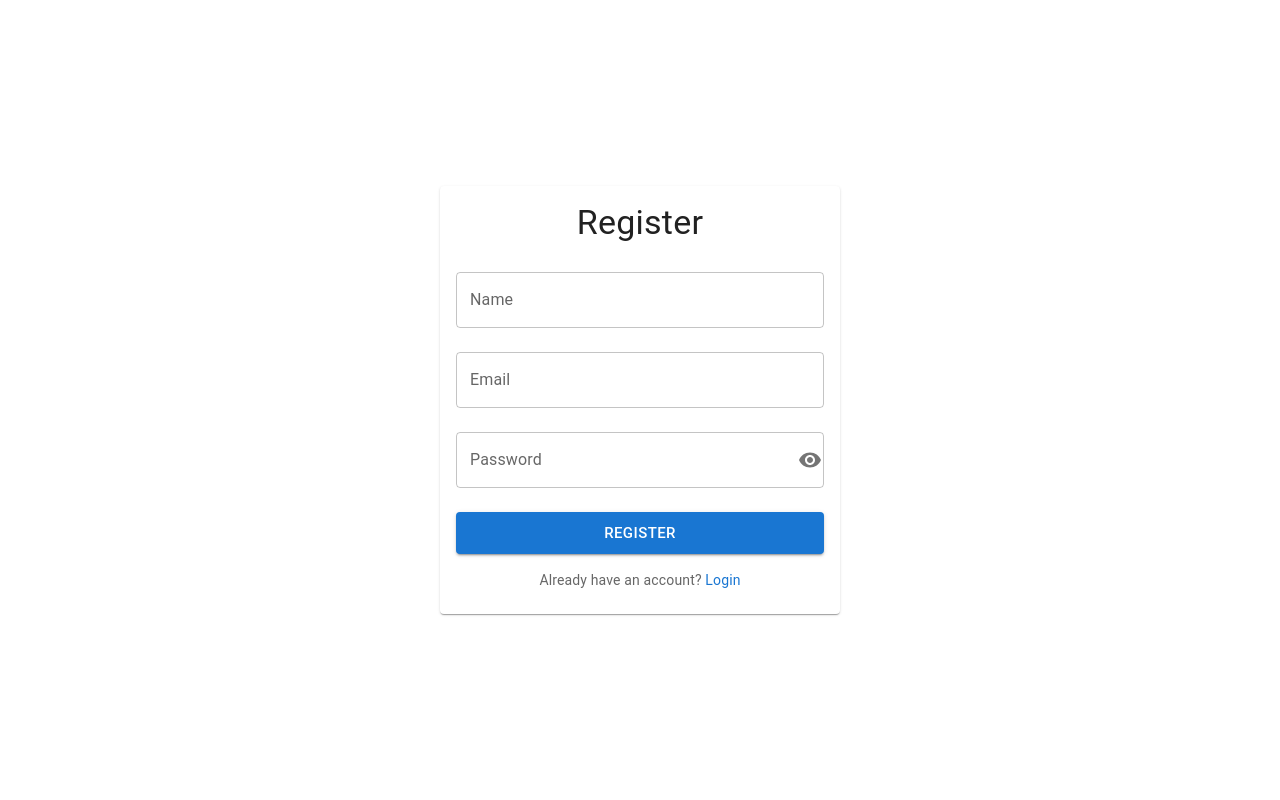
RegisterForm › should show validation error for empty email
The image size is (1280, 800).
Note: Submit without email
In the field labelled "Name": (640, 300) [456,272,824,328], type "Test User"
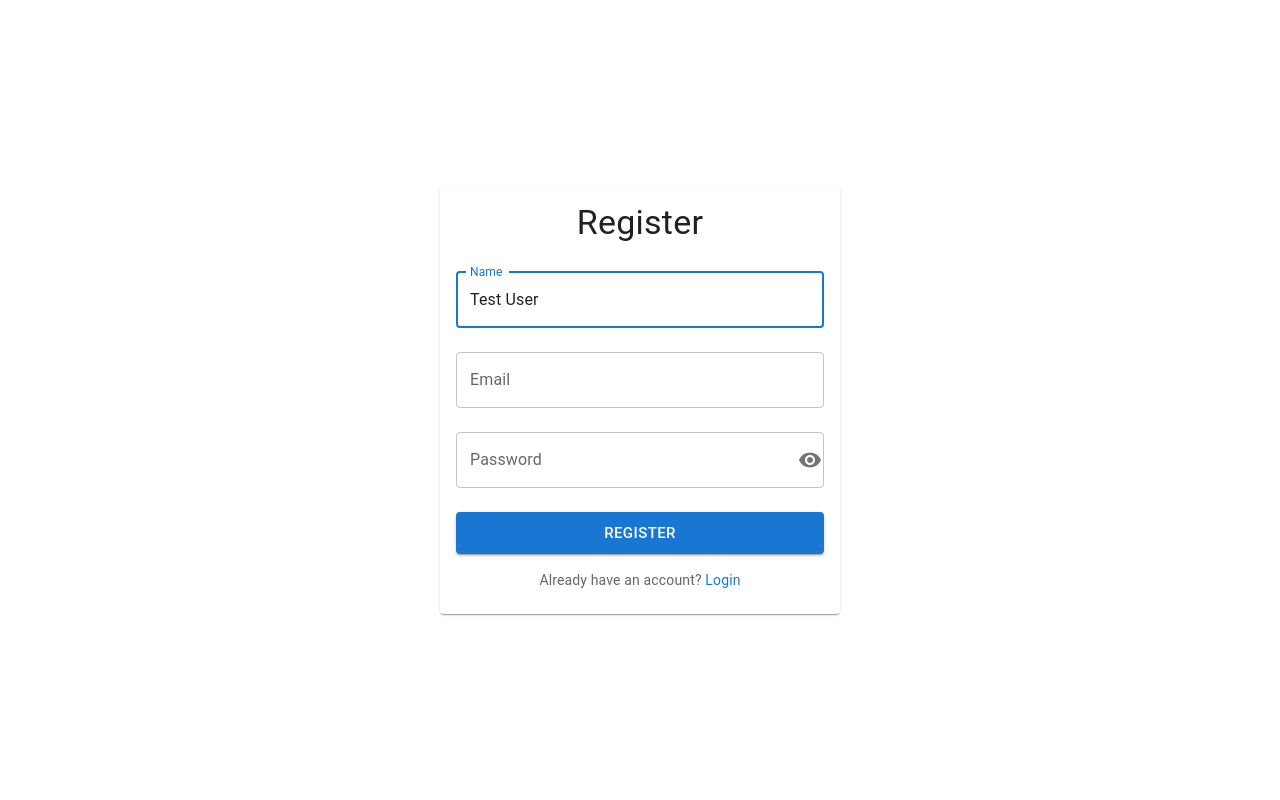
In the password field labelled "Password": (623, 460) [456,432,790,488], type "password123"
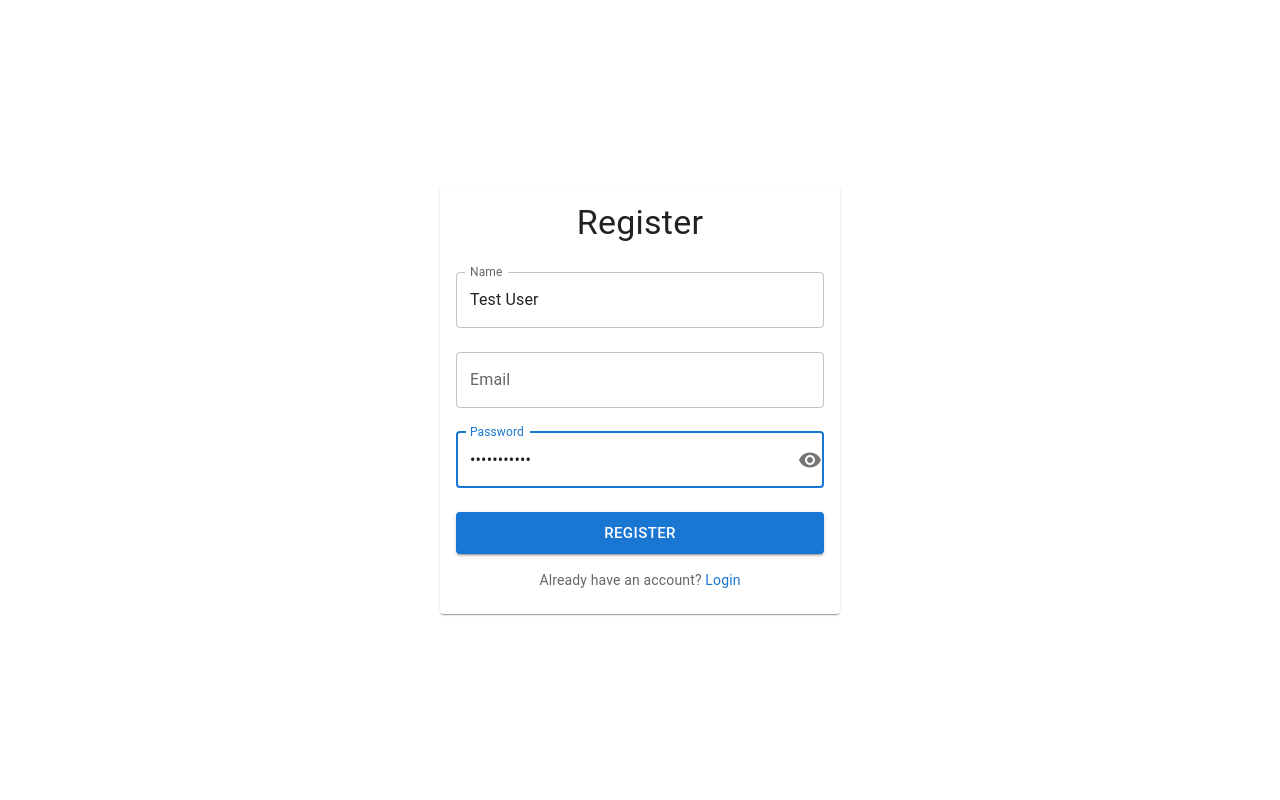
Click the button "Register": (640, 533) [456,512,824,554]
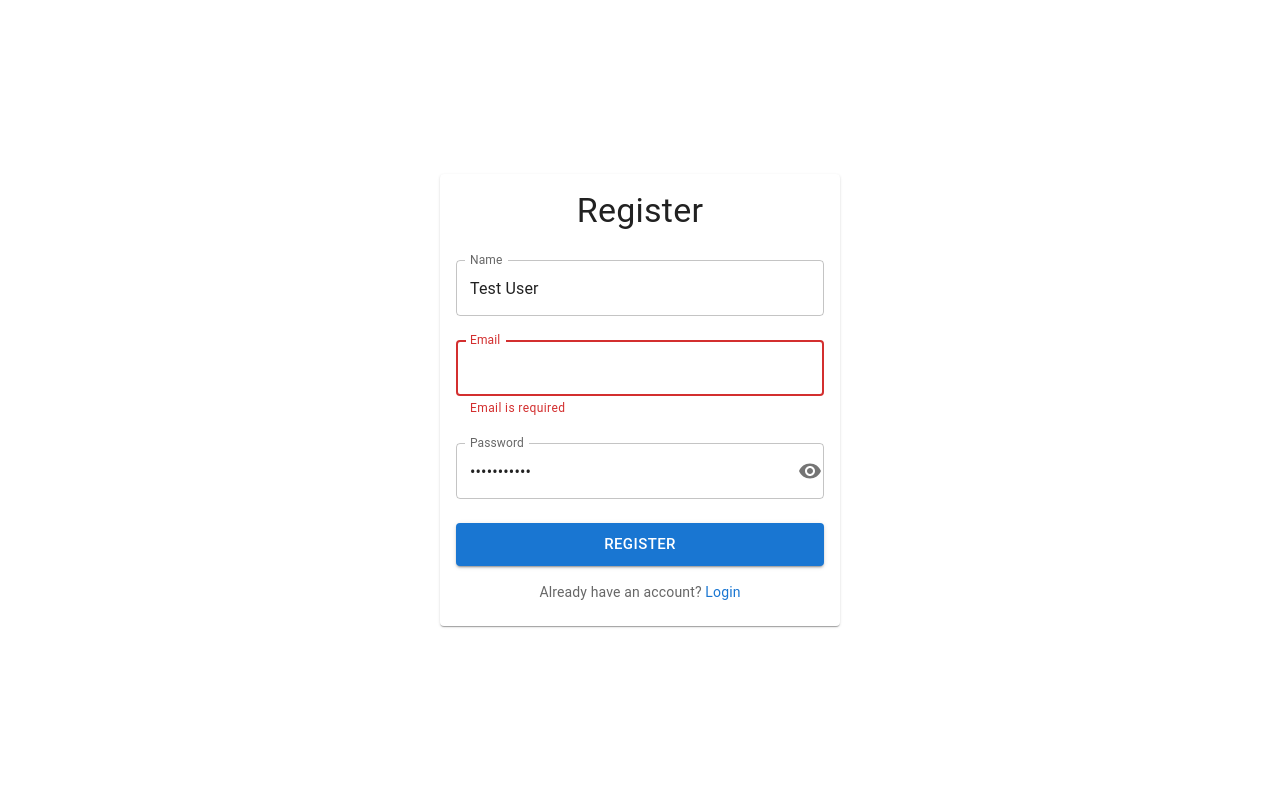
Check: the text "Email is required" is shown, box [470,401,565,415]
